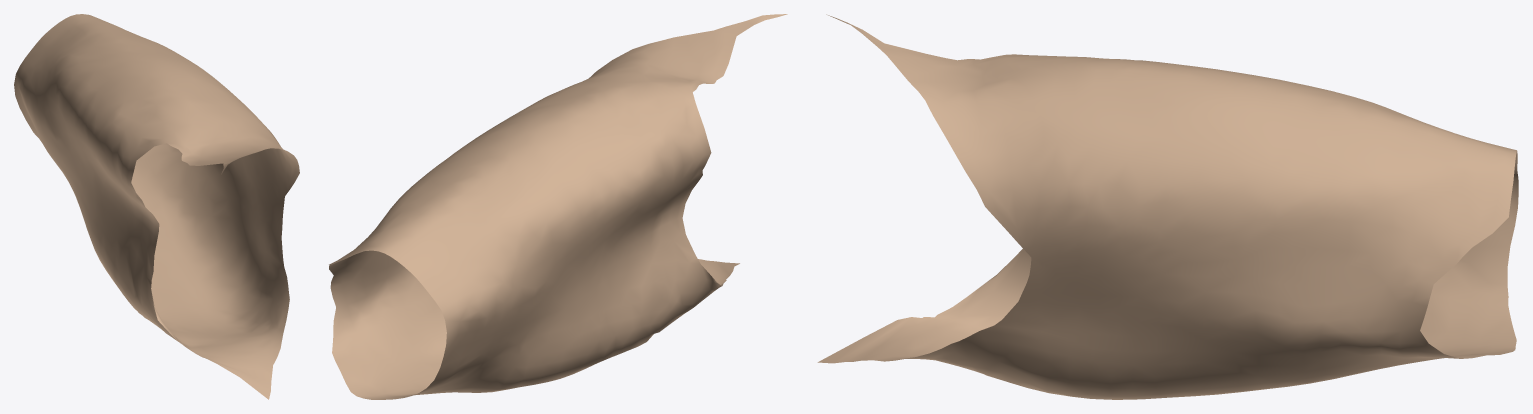
The picture shows the model from 3 angles, left to right: view 1: azimuth 30°, elevation 25°; view 2: azimuth 150°, elevation 25°; view 3: azimuth 270°, elevation 25°; orthographic projection. The views are drawn at different scales.
Parts seen in each view (by area): view 1: 左侧臂筋膜; view 2: 左侧臂筋膜; view 3: 左侧臂筋膜.
Boxes of the visible parts, <box> form: 左侧臂筋膜: <box>14,14,299,399</box>; 左侧臂筋膜: <box>329,14,787,399</box>; 左侧臂筋膜: <box>817,14,1518,399</box>.
Size of the model in its own units: 0.1297 by 0.1496 by 0.2973.
